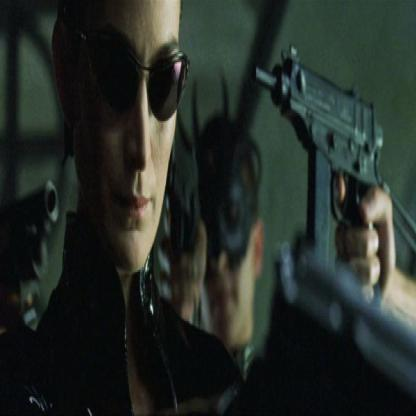Guns: (248, 39, 416, 414), (0, 174, 60, 339), (161, 94, 203, 292)
